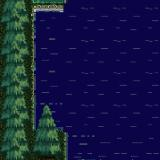Interaction: (27, 17, 41, 130), (28, 0, 72, 17), (42, 116, 78, 130), (64, 130, 78, 160)
Obstacle: (0, 0, 32, 160), (33, 131, 64, 160)
Slow: (67, 0, 160, 160), (38, 13, 66, 129)
